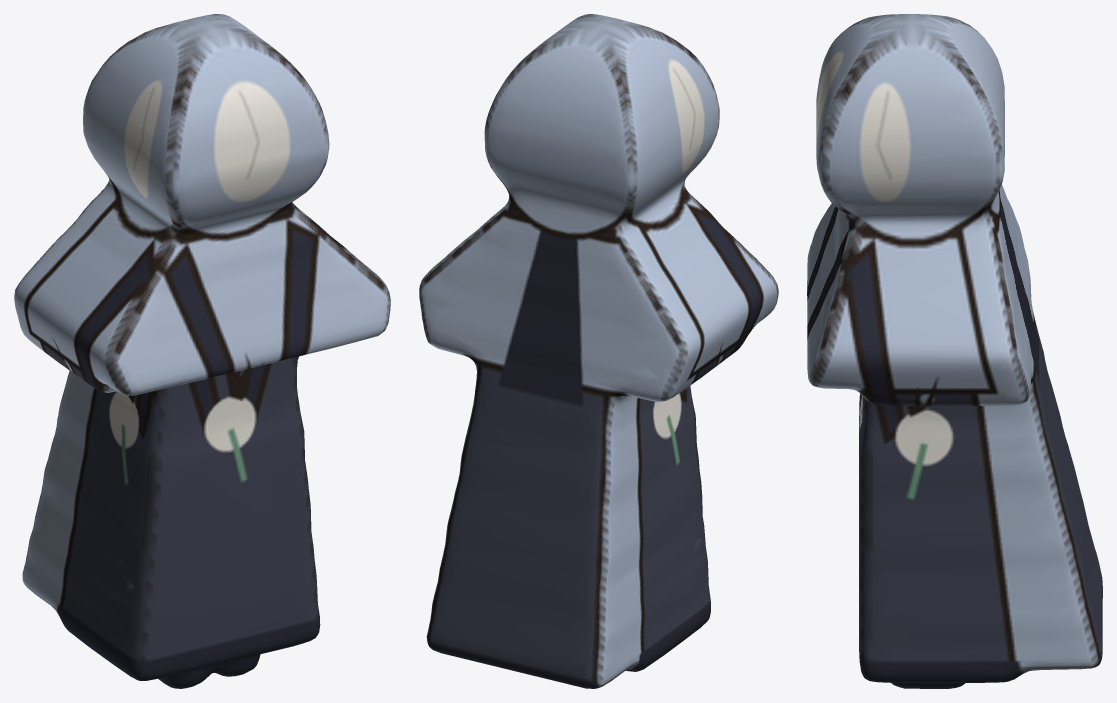
Rendered from Mourner.fbx.
The picture shows the model from 3 angles, left to right: view 1: azimuth 30°, elevation 25°; view 2: azimuth 150°, elevation 25°; view 3: azimuth 270°, elevation 25°; orthographic projection. The views are drawn at different scales.
Visible parts, largest first — view 1: Mourner; view 2: Mourner; view 3: Mourner.
Boxes of the visible parts, x1,y1,x2,y2 form: Mourner: (14, 14, 390, 688); Mourner: (419, 14, 778, 688); Mourner: (807, 14, 1102, 688).
Bounding box in the file's own units: 182 × 400 × 164.
1 material, 1 textured.
